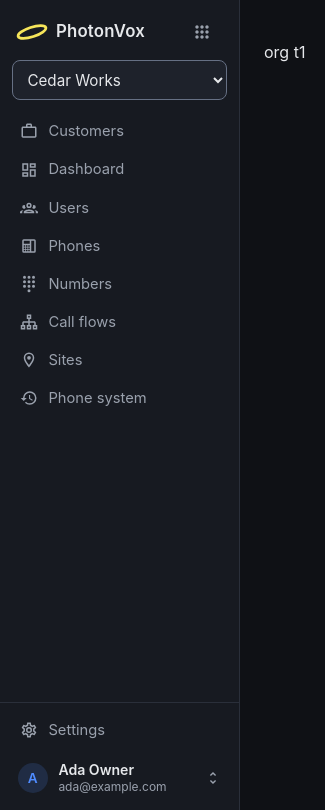
Test: the shell’s controls › the customer picker goes to the other customer’s address, and the shell follows it
Select "Birch Co" in the dropdown named "Customer": coordinates (120, 80) [12,60,227,100]
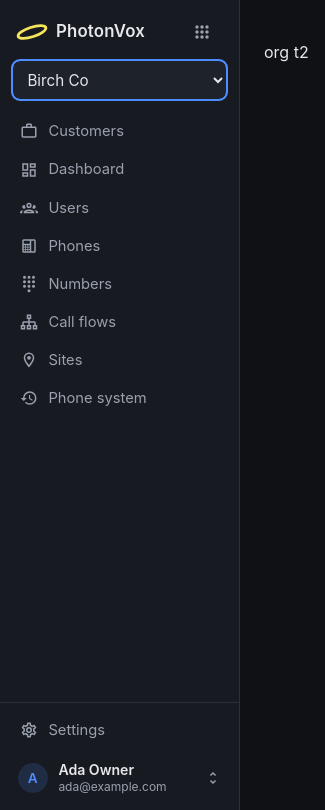
Check: the text "org t2" is shown, box [264,42,309,62]
